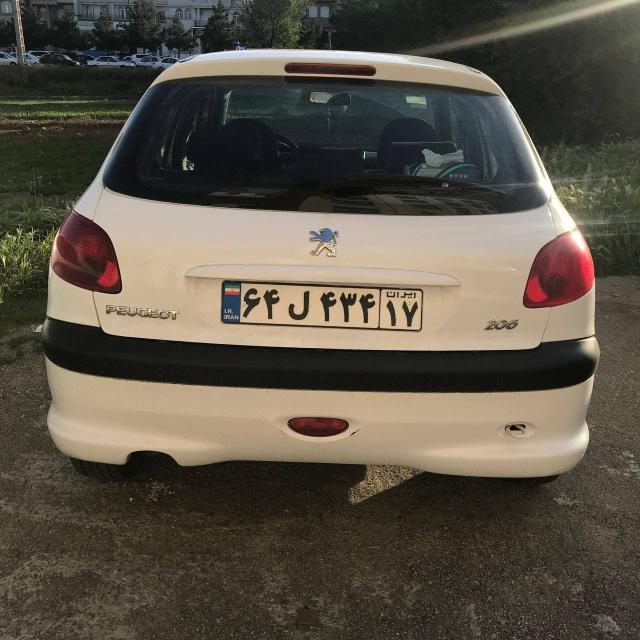Plates: (221, 281, 423, 331)
